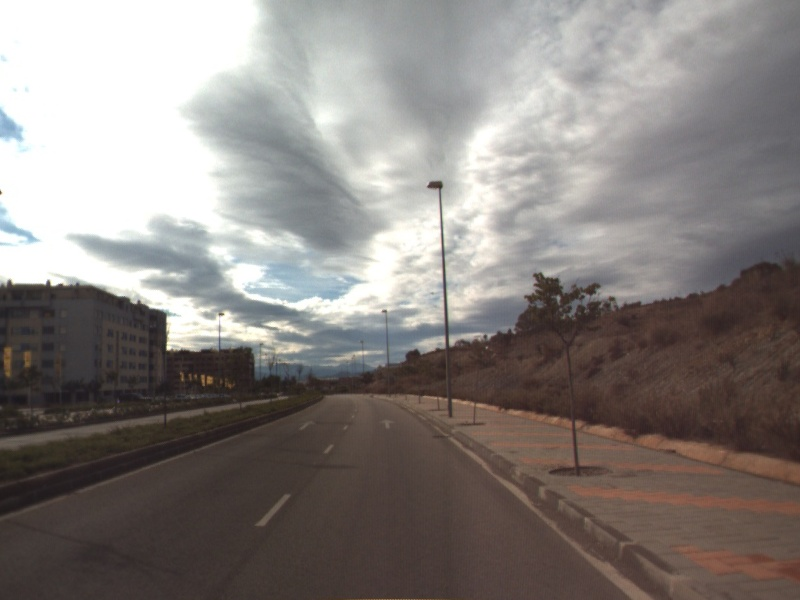STRAIGHT: (296, 418, 318, 432), (377, 417, 398, 430)
